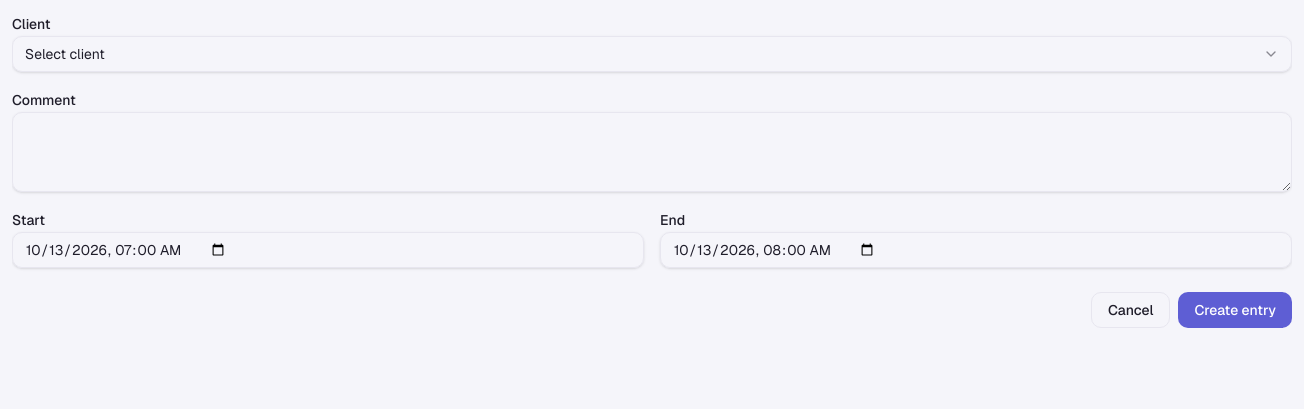
TimeEntryForm › shows validation errors on invalid submit
Click the button "Create entry".
click(1235, 310)  # box [1178, 292, 1292, 328]
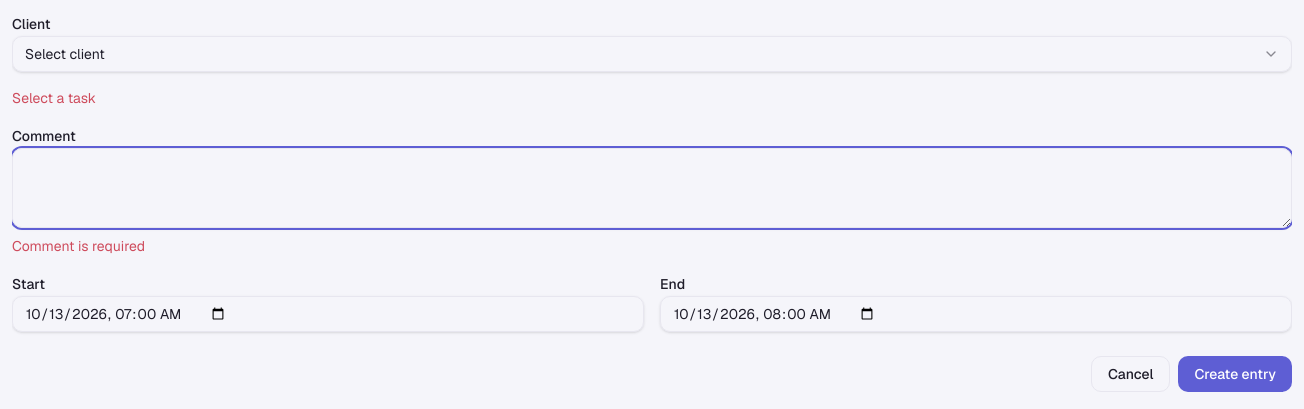
Now the text "Select a task" is shown, box [12, 89, 96, 107]
